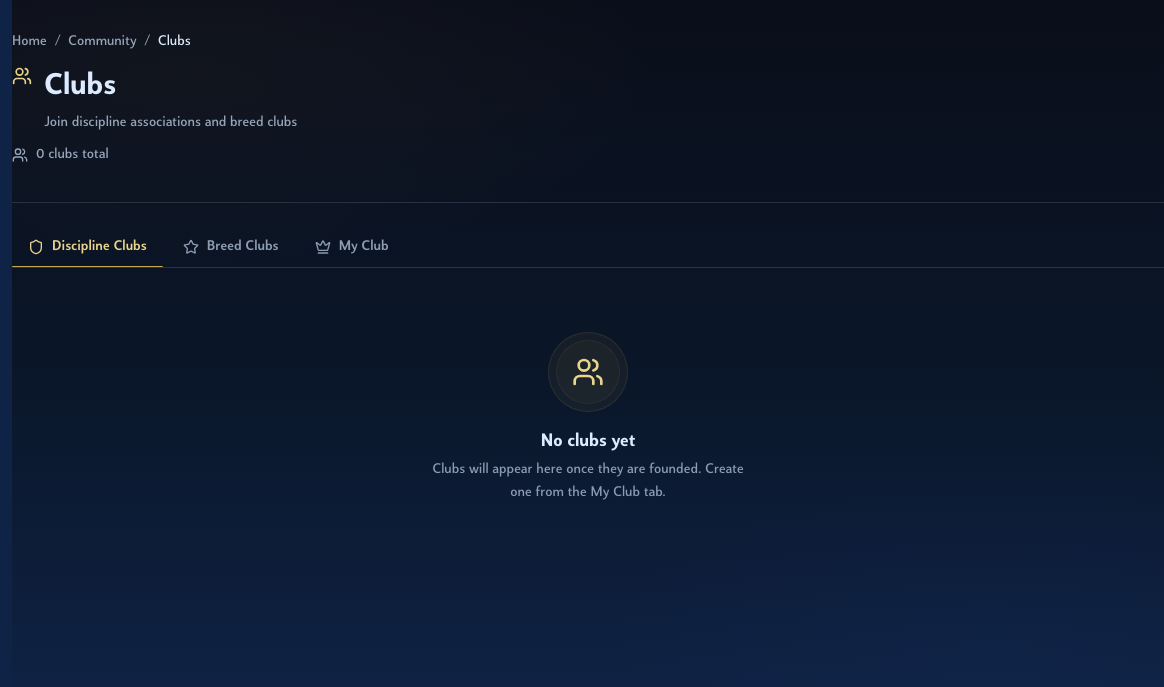
it: MyClubTab fetch states (Equoria-lhkcl) › a failed memberships fetch shows an error with retry, not the "Club Governance" empty
The image size is (1164, 687).
Click the tab with test id "tab-my-club" at (352, 247), box [299,227,405,267]
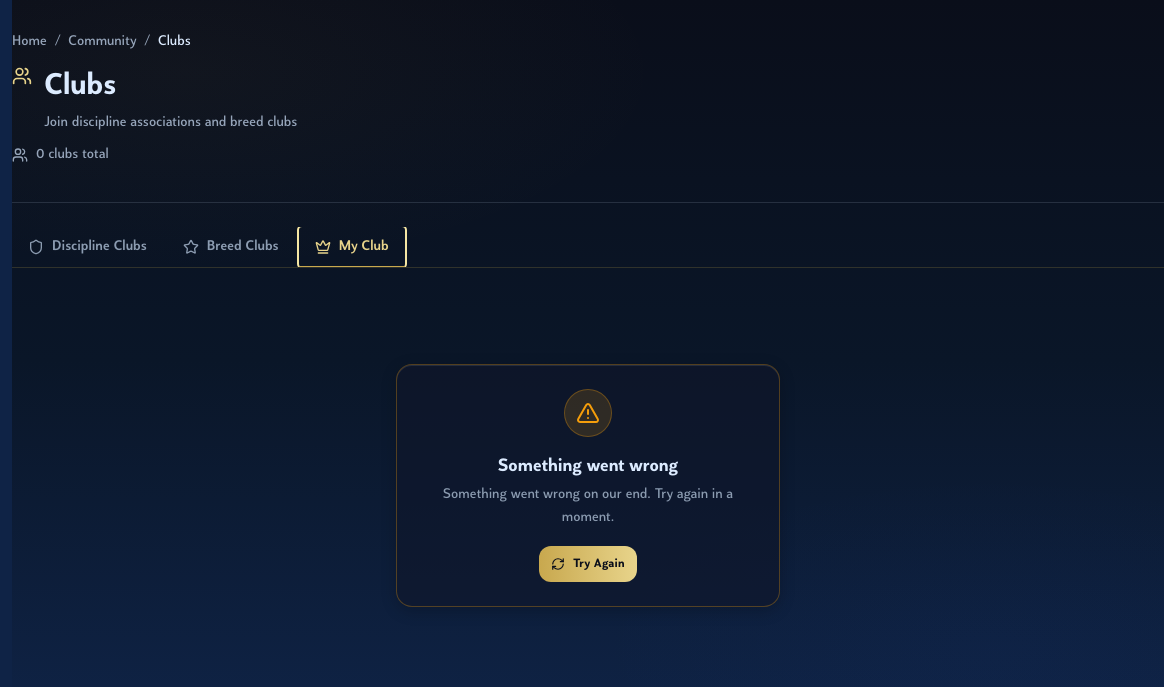
Check: the message shows "Something went wrong", box [498,457,678,476]
